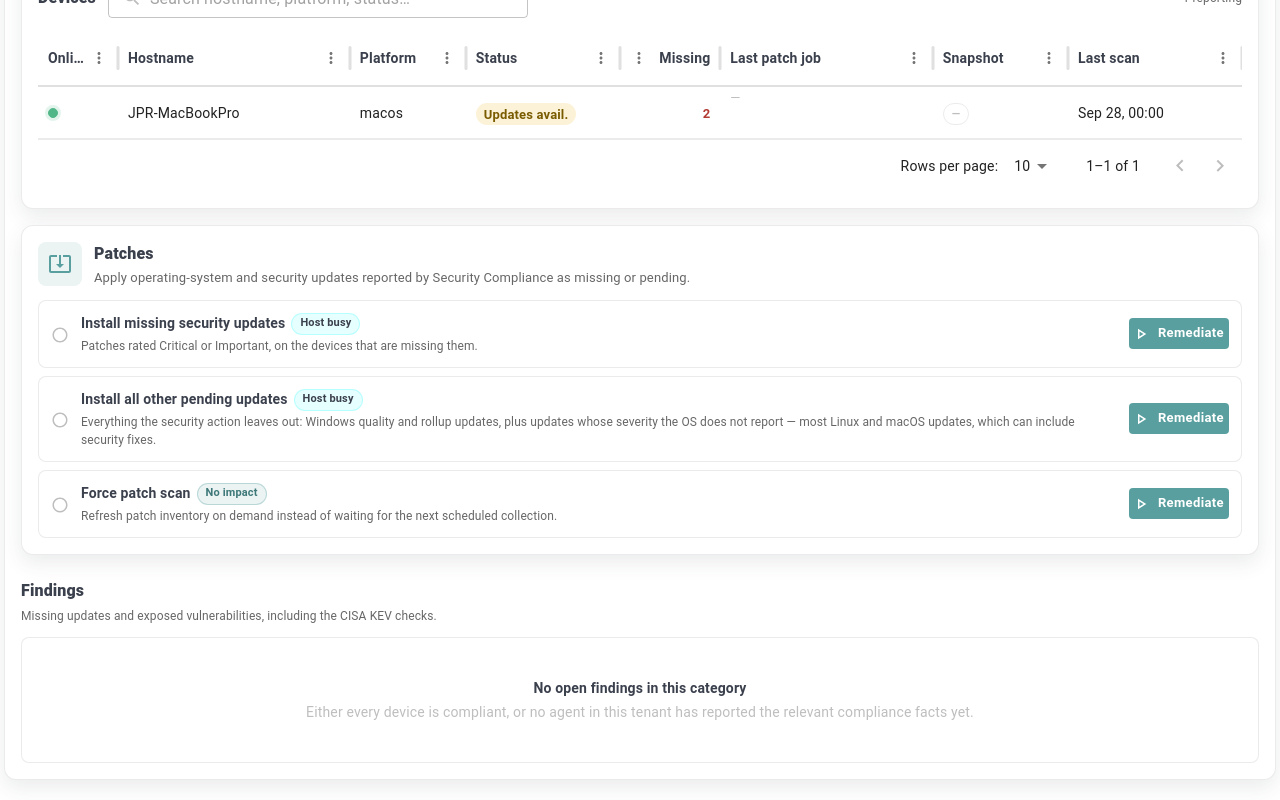
Test: Patch Management — macOS en Apple silicon › la vista previa de flota dice qué Macs se quedan fuera
(page scrolled)
Check: the text "JPR-MacBookPro" is shown, box [118,87,350,139]
What coordinates should you click on to do the following:
click the button "Remediate" in the row of "Install all other pending updates"
I would click on:
 (1179, 419)
Its box is [1129,403,1229,434].
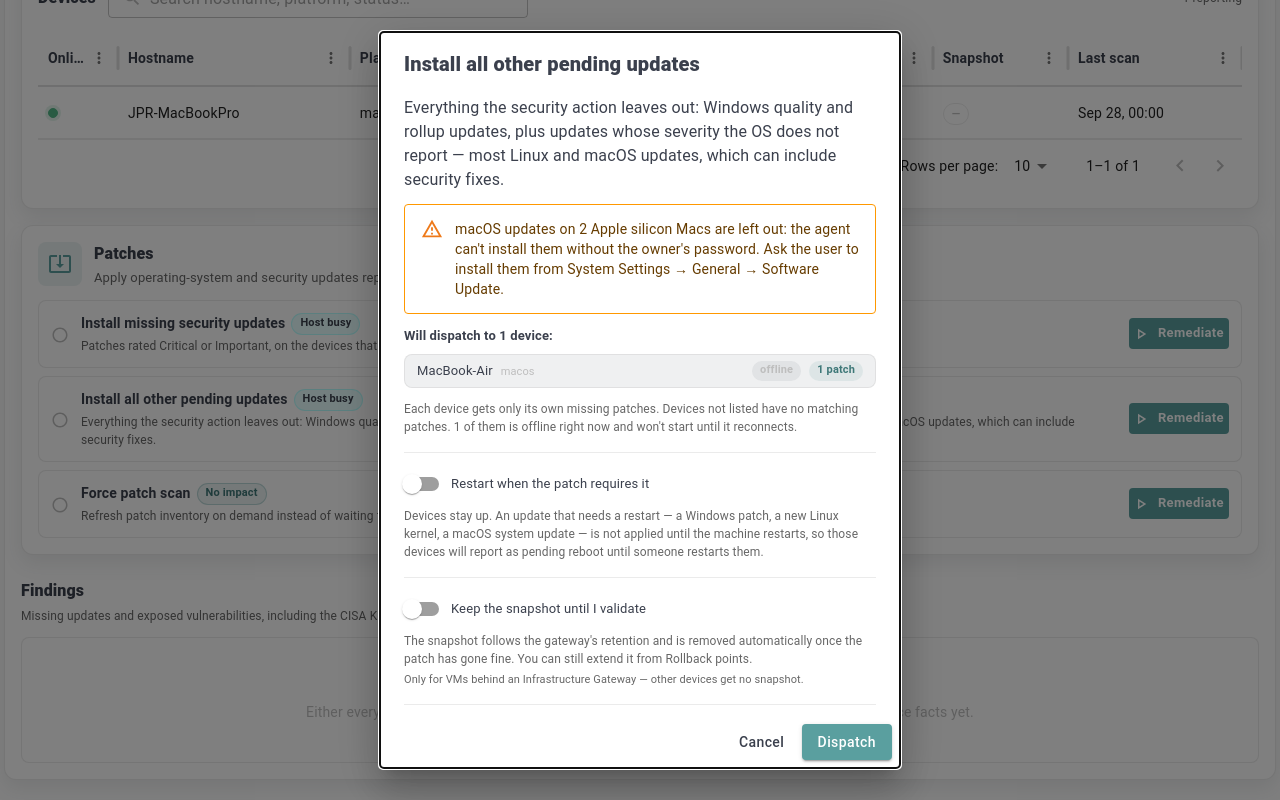
Check: the message with test id "bulk-owner-auth" shows "macOS updates on 2 Apple silicon Macs are left out", box [455,221,859,297]
Check: the text "Will dispatch to 1 device:" is shown, box [404,328,553,343]
